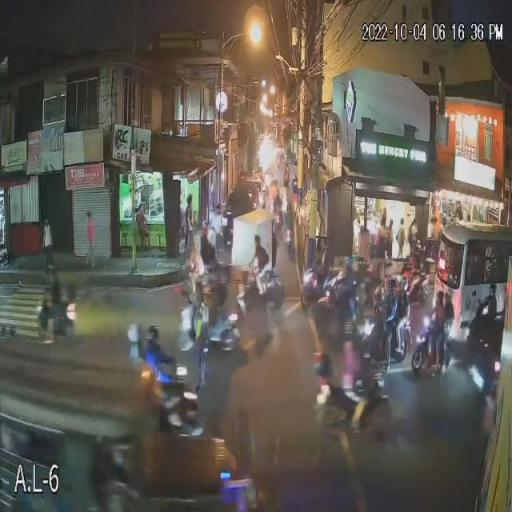helmet: (42, 260, 58, 282), (367, 275, 382, 290), (146, 324, 160, 338)
motorcycle: (311, 338, 389, 440), (138, 326, 206, 438), (351, 278, 411, 372), (201, 292, 244, 365), (412, 308, 454, 378), (38, 285, 78, 344), (392, 261, 431, 315), (246, 260, 286, 312)
rider: (332, 330, 366, 400), (142, 325, 180, 387), (39, 258, 60, 346), (424, 290, 449, 362), (206, 286, 236, 339), (386, 278, 409, 346), (334, 280, 362, 330), (361, 278, 386, 330), (252, 234, 272, 284)
